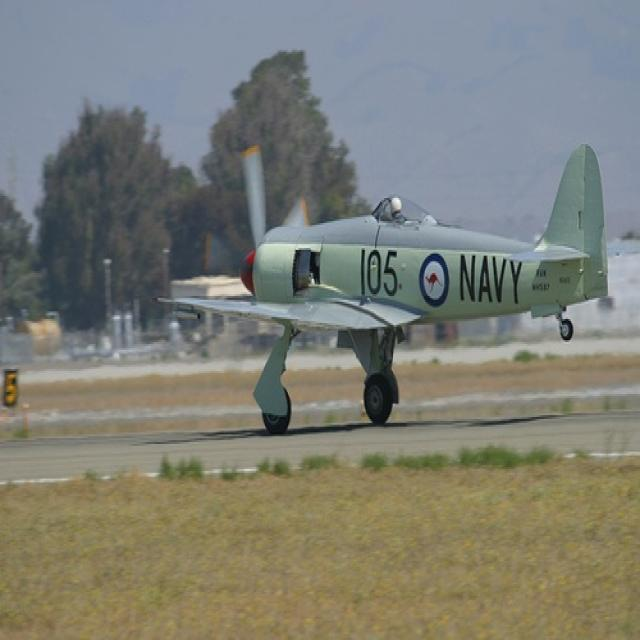aeroplane: (160, 134, 613, 434)
